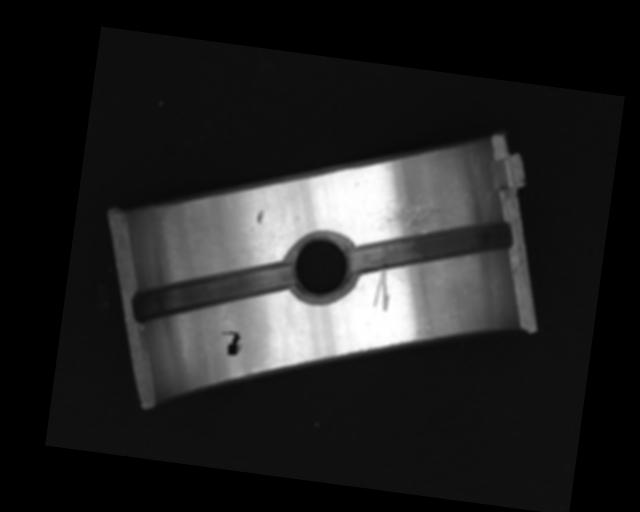blot: (218, 329, 244, 358)
bruise: (256, 208, 264, 226)
gap: (130, 243, 295, 340), (349, 203, 513, 292)
hole: (281, 228, 361, 307)
nick: (372, 266, 394, 312)
scratch: (370, 180, 471, 243)
